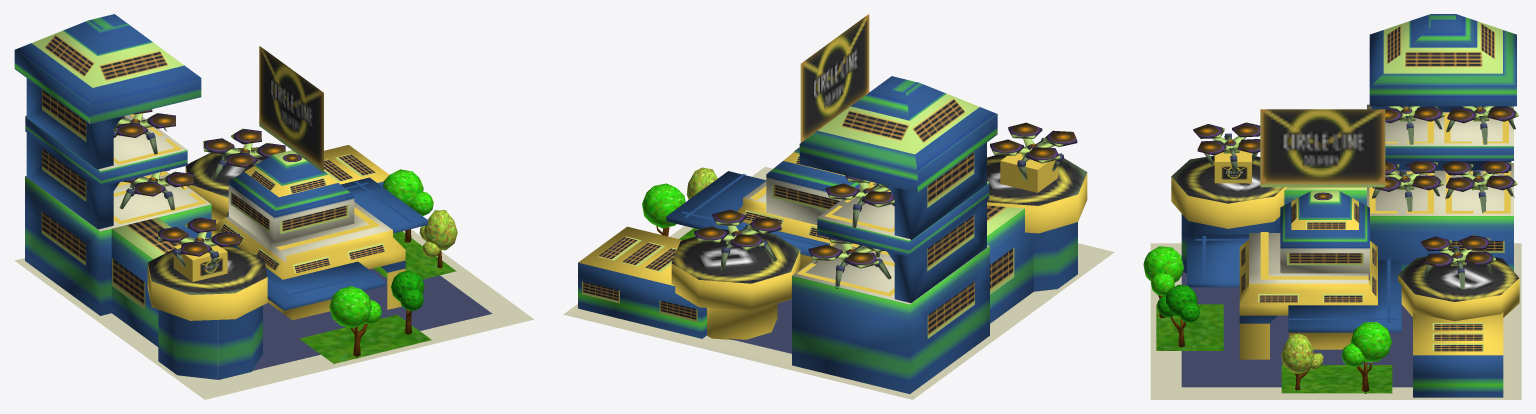
Rendered from courier_LV3.fbx.
The picture shows the model from 3 angles, left to right: view 1: azimuth 30°, elevation 25°; view 2: azimuth 150°, elevation 25°; view 3: azimuth 270°, elevation 25°; orthographic projection. The views are drawn at different scales.
Visible parts, largest first — view 1: courier level 3; view 2: courier level 3; view 3: courier level 3.
Boxes of the visible parts, box(x1,y1,x2,y2) form: courier level 3: box(14, 14, 534, 399); courier level 3: box(563, 14, 1114, 399); courier level 3: box(1143, 14, 1521, 399).
Bounding box in the file's own units: 103 × 75.03 × 102.
